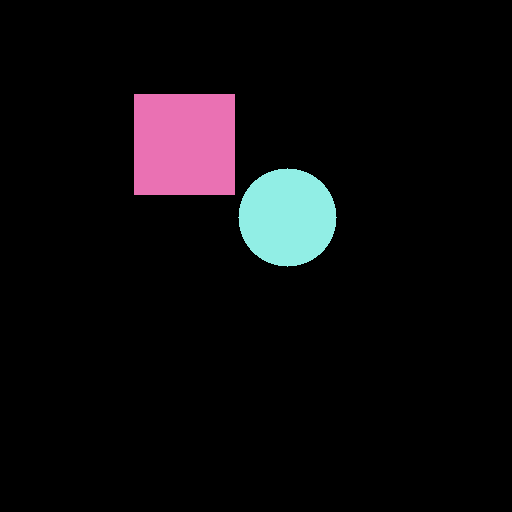circle: (238, 168, 336, 266)
square: (134, 94, 234, 194)
